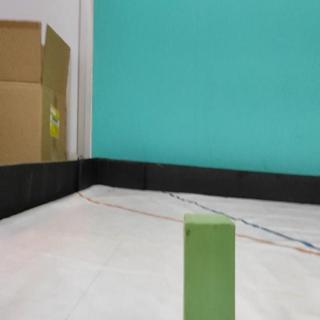greenbox: (182, 213, 237, 320)
